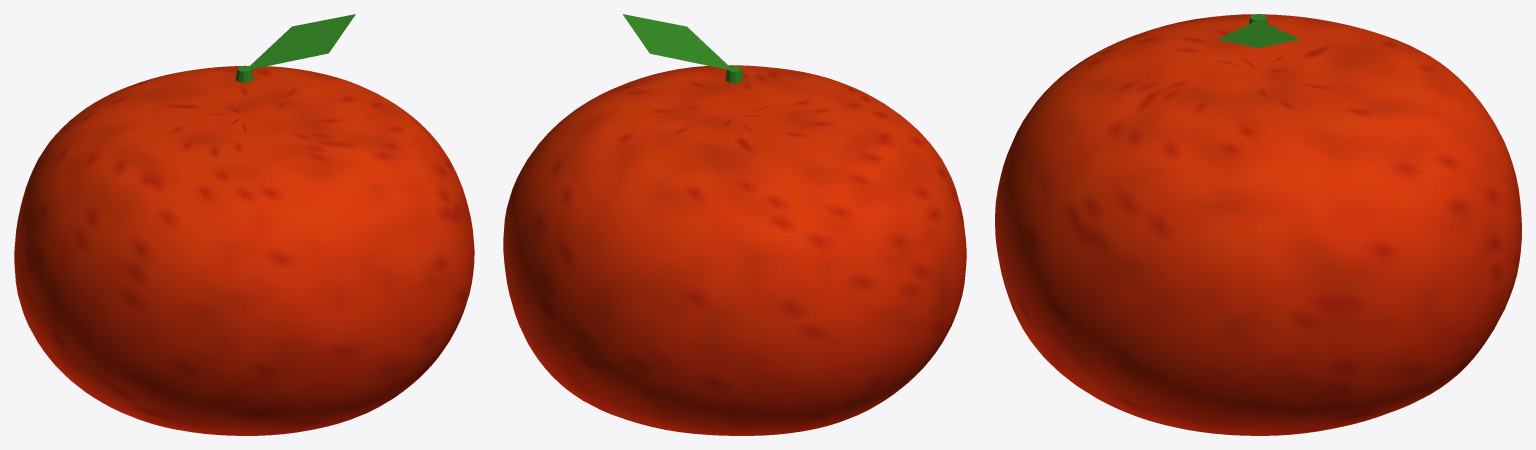
File: tangor.glb
3 views of the same model, side by side, from view 1: azimuth 30°, elevation 25°; view 2: azimuth 150°, elevation 25°; view 3: azimuth 270°, elevation 25° (orthographic). The views are drawn at different scales.
Parts seen in each view (by area): view 1: entier_peau, moitie_B_peau, moitie_A_peau, entier_extra0; view 2: entier_peau, moitie_A_peau, moitie_B_peau, entier_extra0; view 3: entier_peau, moitie_B_peau, moitie_A_peau, entier_extra0.
Boxes of the visible parts, x1=… form: entier_peau: x1=14, y1=66, x2=473, y2=435; moitie_B_peau: x1=45, y1=95, x2=474, y2=435; moitie_A_peau: x1=15, y1=66, x2=397, y2=385; entier_extra0: x1=235, y1=14, x2=355, y2=82; entier_peau: x1=503, y1=65, x2=966, y2=435; moitie_A_peau: x1=503, y1=95, x2=934, y2=435; moitie_B_peau: x1=580, y1=65, x2=966, y2=386; entier_extra0: x1=622, y1=14, x2=743, y2=83; entier_peau: x1=995, y1=14, x2=1521, y2=435; moitie_B_peau: x1=995, y1=14, x2=1258, y2=435; moitie_A_peau: x1=1258, y1=14, x2=1521, y2=435; entier_extra0: x1=1216, y1=14, x2=1300, y2=47.
Size of the model in its own units: 2 by 1.65 by 2.
